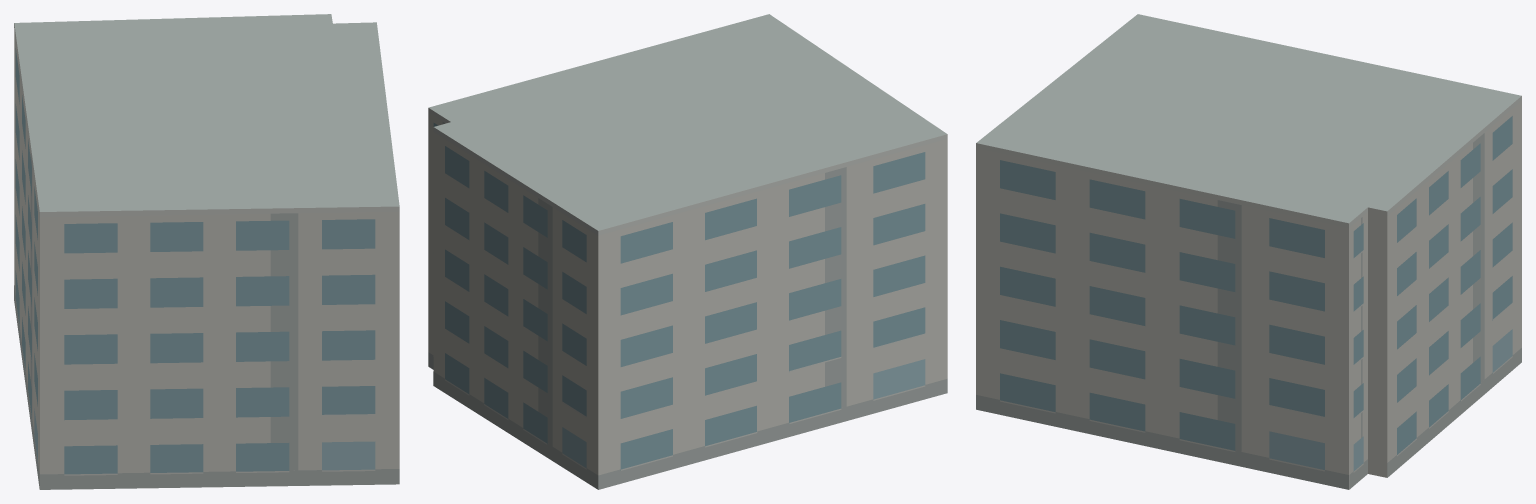
Rendered from survey-upis-32984391.glb.
3 renders of one model, left to right at view 1: azimuth 30°, elevation 25°; view 2: azimuth 150°, elevation 25°; view 3: azimuth 270°, elevation 25°, orthographic. The views are drawn at different scales.
Parts seen in each view (by area): view 1: survey-upis-32984391.tmp; view 2: survey-upis-32984391.tmp; view 3: survey-upis-32984391.tmp.
Boxes of the visible parts, <box> form: survey-upis-32984391.tmp: <box>14,14,399,489</box>; survey-upis-32984391.tmp: <box>428,14,947,489</box>; survey-upis-32984391.tmp: <box>976,14,1521,489</box>.
Bounding box in the file's own units: 22.24 × 13.2 × 24.5.
